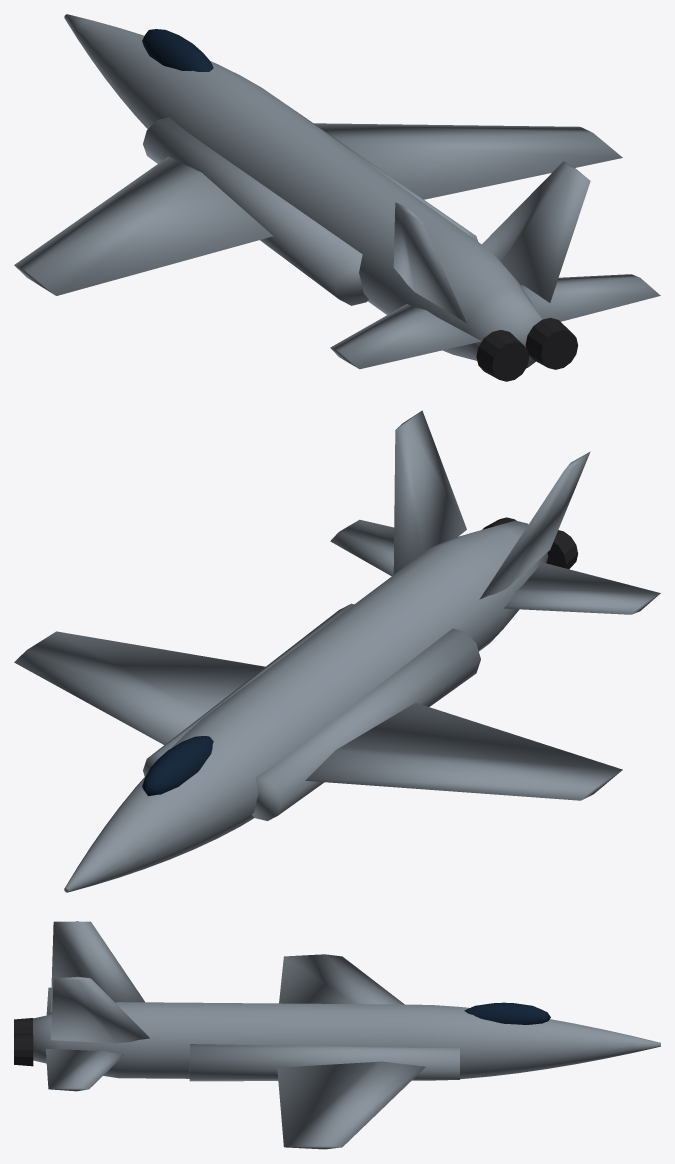
The picture shows the model from 3 angles, top to bottom: view 1: azimuth 30°, elevation 25°; view 2: azimuth 150°, elevation 25°; view 3: azimuth 270°, elevation 25°; orthographic projection. The views are drawn at different scales.
Parts seen in each view (by area): view 1: Body, Detail, Canopy; view 2: Body, Canopy, Detail; view 3: Body, Canopy, Detail.
Boxes of the visible parts, <box> form: Body: <box>14,14,660,369</box>; Detail: <box>476,317,578,381</box>; Canopy: <box>142,29,213,71</box>; Body: <box>14,410,660,892</box>; Canopy: <box>142,736,213,796</box>; Detail: <box>482,517,578,568</box>; Body: <box>33,921,660,1149</box>; Canopy: <box>464,1002,550,1024</box>; Detail: <box>14,1018,33,1066</box>.
Size of the model in its own units: 12.3 by 3.84 by 17.61.
